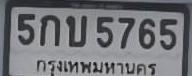5: (17, 13, 34, 44), (159, 18, 176, 49), (96, 16, 112, 47)
6: (138, 17, 154, 48)
7: (117, 16, 134, 48)
A01: (39, 14, 59, 45)
A26: (65, 14, 86, 46)
BKK: (31, 55, 159, 76)
